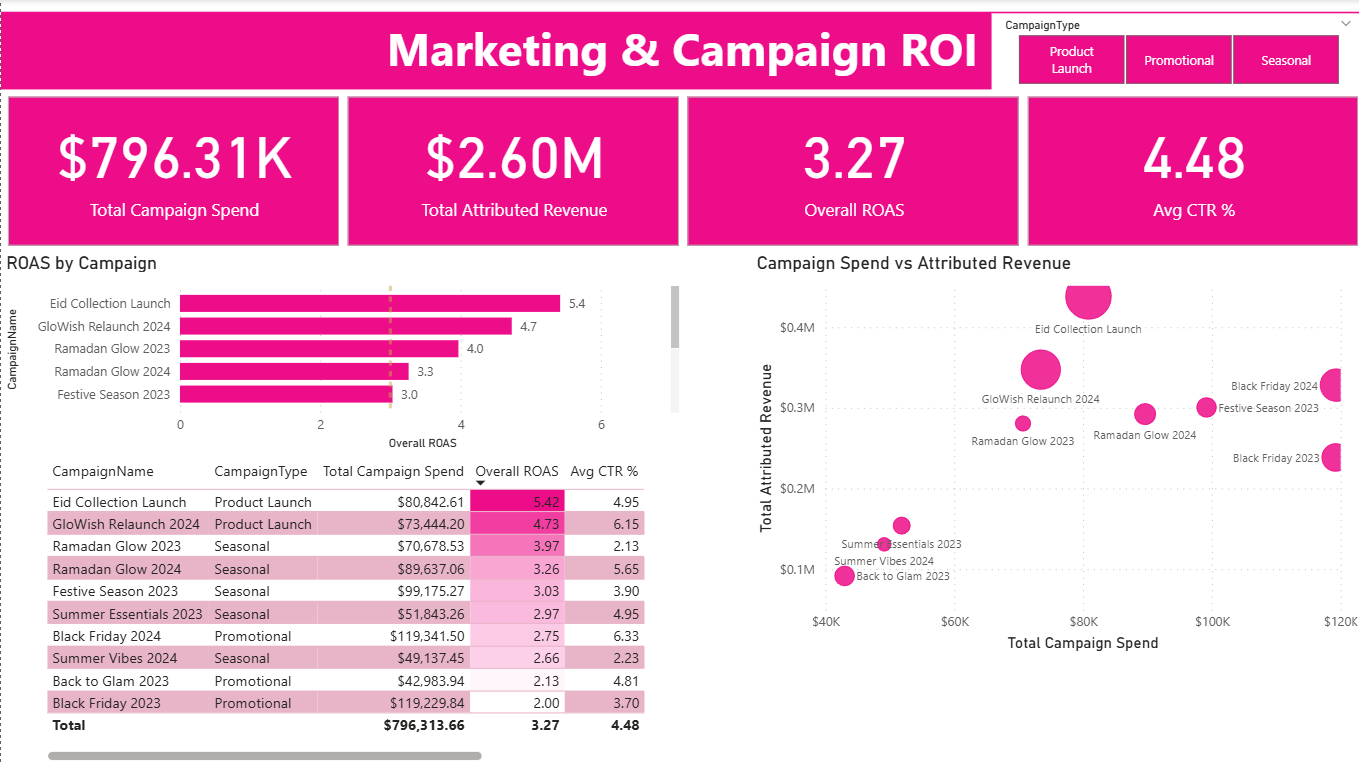

The dashboard page shown, as its layout file describes it:
{"tool":"powerbi","page":{"name":"Marketing & Campaign ROI","canvas":[1280,720],"ordinal":3},"visuals":[{"type":"textbox","box":[0,12.5,1279.2,72.9],"z":0},{"type":"cardVisual","fields":{"Data":["00_Measures.Total Campaign Spend","00_Measures.Total Attributed Revenue","00_Measures.Overall ROAS","00_Measures.Avg CTR %"]},"box":[1.7,86.7,1278.3,150],"z":1000},{"type":"clusteredBarChart","title":"ROAS by Campaign","fields":{"Category":["DimCampaign.CampaignName"],"Y":["00_Measures.Overall ROAS"]},"box":[0,236.7,641.7,190],"z":2000},{"type":"scatterChart","title":"Campaign Spend vs Attributed Revenue","fields":{"X":["00_Measures.Total Campaign Spend"],"Y":["00_Measures.Total Attributed Revenue"],"Category":["DimCampaign.CampaignName"],"Size":["Sum(FactCampaignPerformance.Conversions)"]},"box":[705,236.7,575,380],"z":3000},{"type":"tableEx","fields":{"Values":["DimCampaign.CampaignName","DimCampaign.CampaignType","00_Measures.Total Campaign Spend","00_Measures.Overall ROAS","00_Measures.Avg CTR %","00_Measures.Total Attributed Revenue","Sum(FactCampaignPerformance.ConversionRate_Pct)"]},"box":[36.7,426.7,571.7,293.3],"z":4000},{"type":"slicer","fields":{"Values":["DimCampaign.CampaignType"]},"box":[930,13.3,350,73.3],"z":5000}]}

Visuals, with their boxes in screenshot pixels (x1, y1, x2, y2), scaled from the page's 1280x720 canvas onto the 1359x762 screenshot:
textbox: <bbox>0, 13, 1358, 90</bbox>
cardVisual - 00_Measures.Total Campaign Spend x 00_Measures.Total Attributed Revenue: <bbox>2, 92, 1358, 251</bbox>
"ROAS by Campaign" clusteredBarChart: <bbox>0, 251, 681, 452</bbox>
"Campaign Spend vs Attributed Revenue" scatterChart: <bbox>749, 251, 1358, 653</bbox>
tableEx - DimCampaign.CampaignName x DimCampaign.CampaignType: <bbox>39, 452, 646, 761</bbox>
slicer - DimCampaign.CampaignType: <bbox>987, 14, 1358, 92</bbox>
